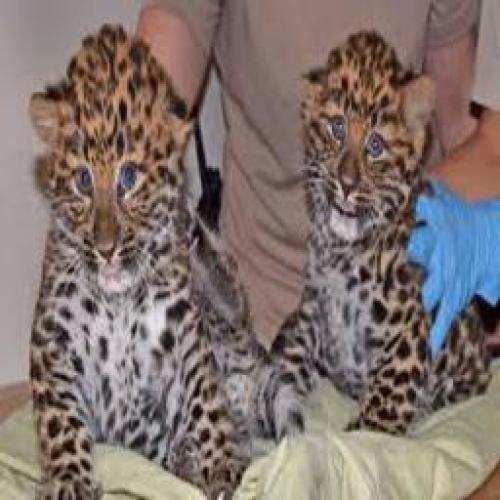amur_leopard-endangered: (19, 31, 262, 500), (281, 30, 487, 429)
